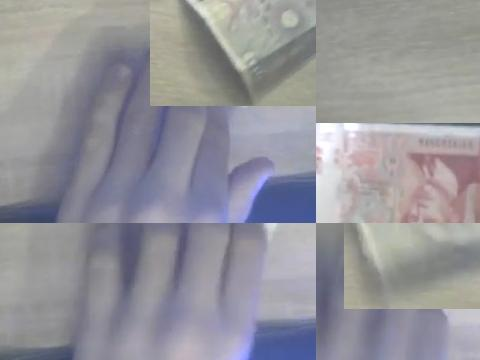10leva: (350, 223, 480, 309)
5leva: (316, 123, 480, 223)
